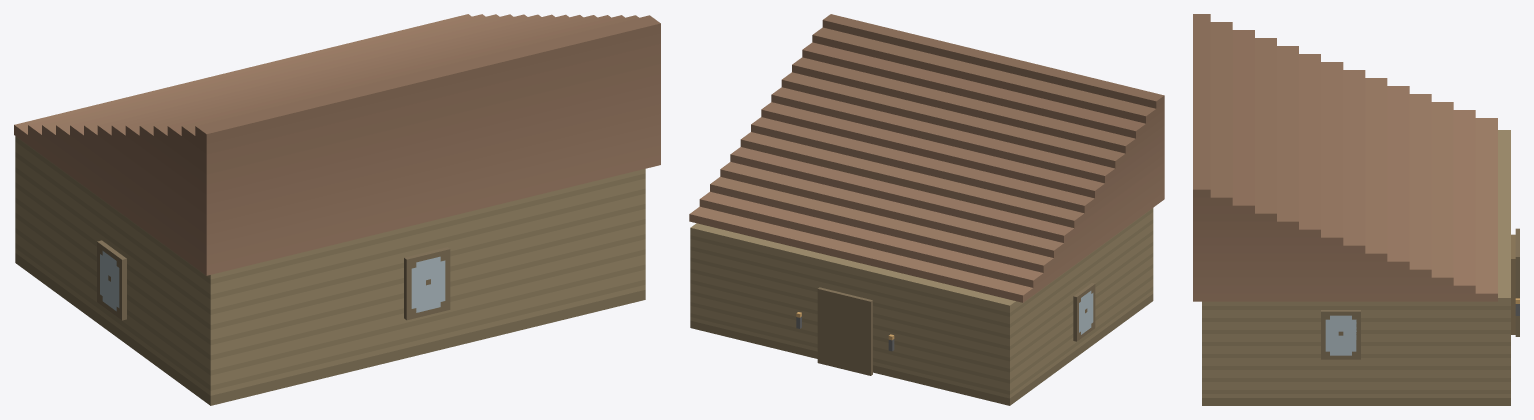
File: taller_sastre_03.glb
3 renders of one model, left to right at view 1: azimuth 30°, elevation 25°; view 2: azimuth 150°, elevation 25°; view 3: azimuth 270°, elevation 25°, orthographic. The views are drawn at different scales.
Visible parts, largest first — view 1: taller_sastre_03; view 2: taller_sastre_03; view 3: taller_sastre_03.
Boxes of the visible parts, x1,y1,x2,y2 form: taller_sastre_03: [14, 14, 660, 405]; taller_sastre_03: [689, 14, 1164, 405]; taller_sastre_03: [1193, 14, 1519, 405].
Bounding box in the file's own units: 9.4 × 5.5 × 7.4.
